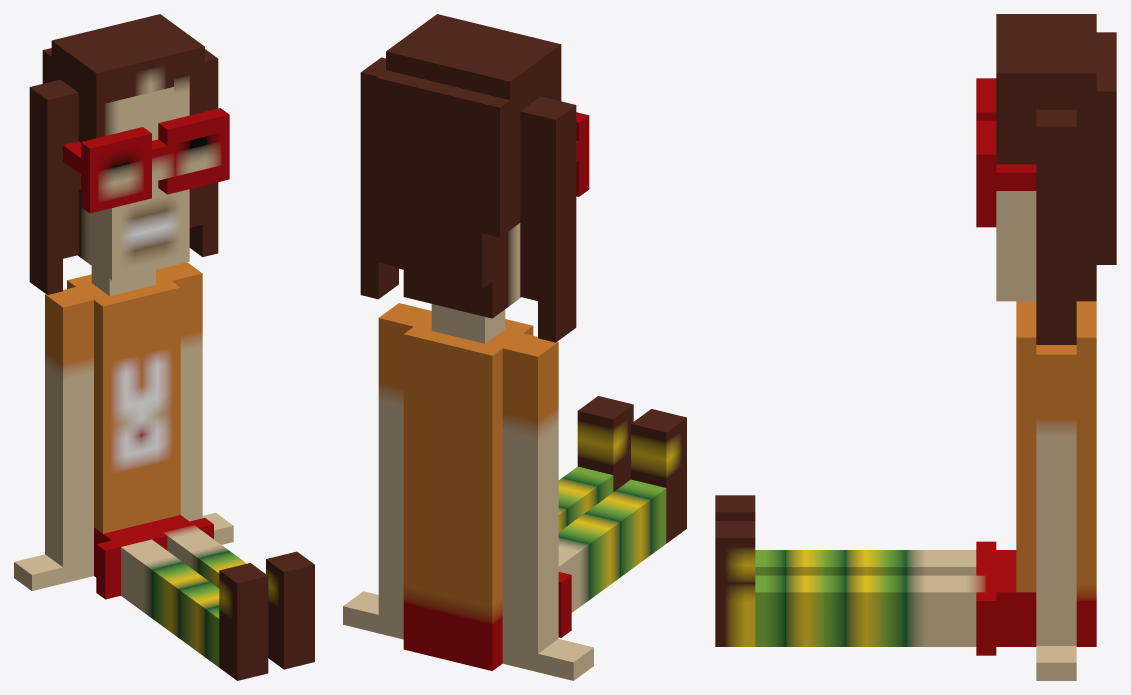
The model's file is Hilda.dae.
3 views of the same model, side by side, from view 1: azimuth 30°, elevation 25°; view 2: azimuth 150°, elevation 25°; view 3: azimuth 270°, elevation 25° (orthographic). The views are drawn at different scales.
Visible parts, largest first — view 1: Hilda; view 2: Hilda; view 3: Hilda.
Boxes of the visible parts, box(x1,y1,x2,y2) form: Hilda: box(14, 14, 314, 680); Hilda: box(343, 14, 686, 680); Hilda: box(715, 14, 1116, 680).
Bounding box in the file's own units: 13 × 32 × 20.
Materials: 1 (1 with a texture image).
